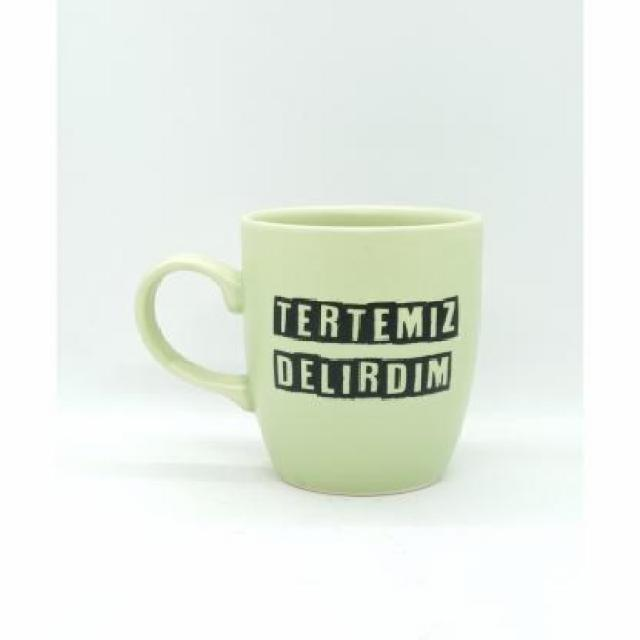taza: (134, 204, 483, 498)
